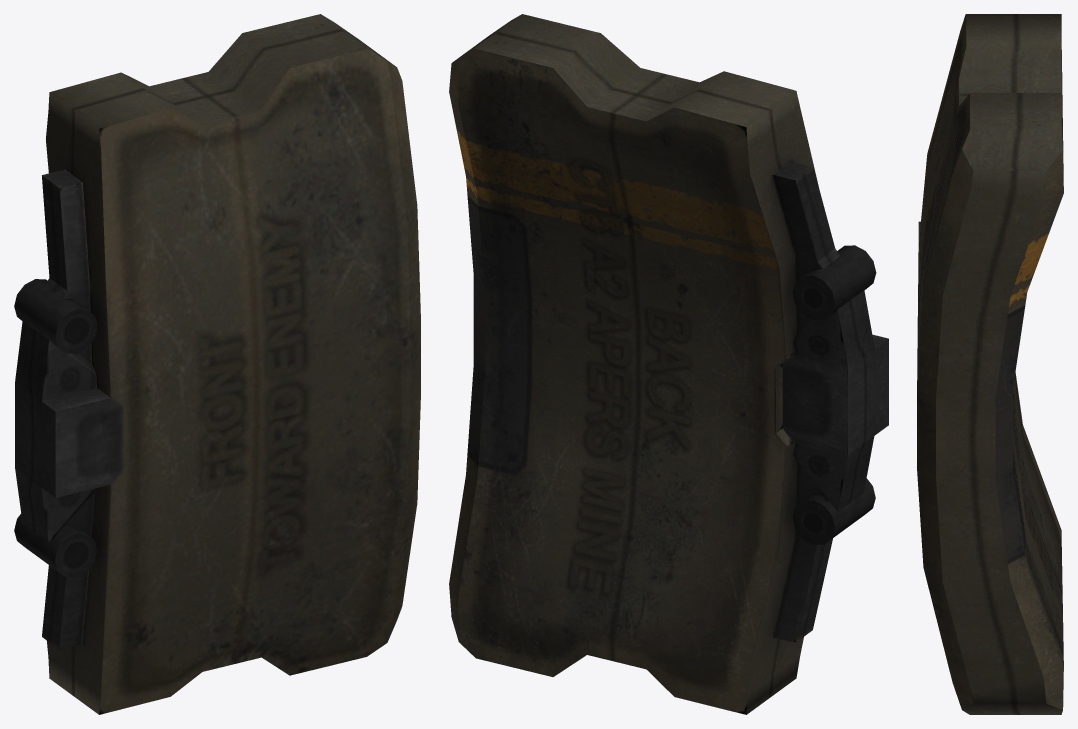
The model's file is t6_wpn_claymore_stow_LOD1.obj.
3 renders of one model, left to right at view 1: azimuth 30°, elevation 25°; view 2: azimuth 150°, elevation 25°; view 3: azimuth 270°, elevation 25°, orthographic. The views are drawn at different scales.
Parts seen in each view (by area): view 1: mtl_t6_wpn_claymore; view 2: mtl_t6_wpn_claymore; view 3: mtl_t6_wpn_claymore.
Part boxes in pixels (<box>): mtl_t6_wpn_claymore: <box>14,14,420,714</box>; mtl_t6_wpn_claymore: <box>449,14,888,714</box>; mtl_t6_wpn_claymore: <box>917,14,1063,714</box>.
Size of the model in its own units: 18.26 by 28.34 by 6.44.
